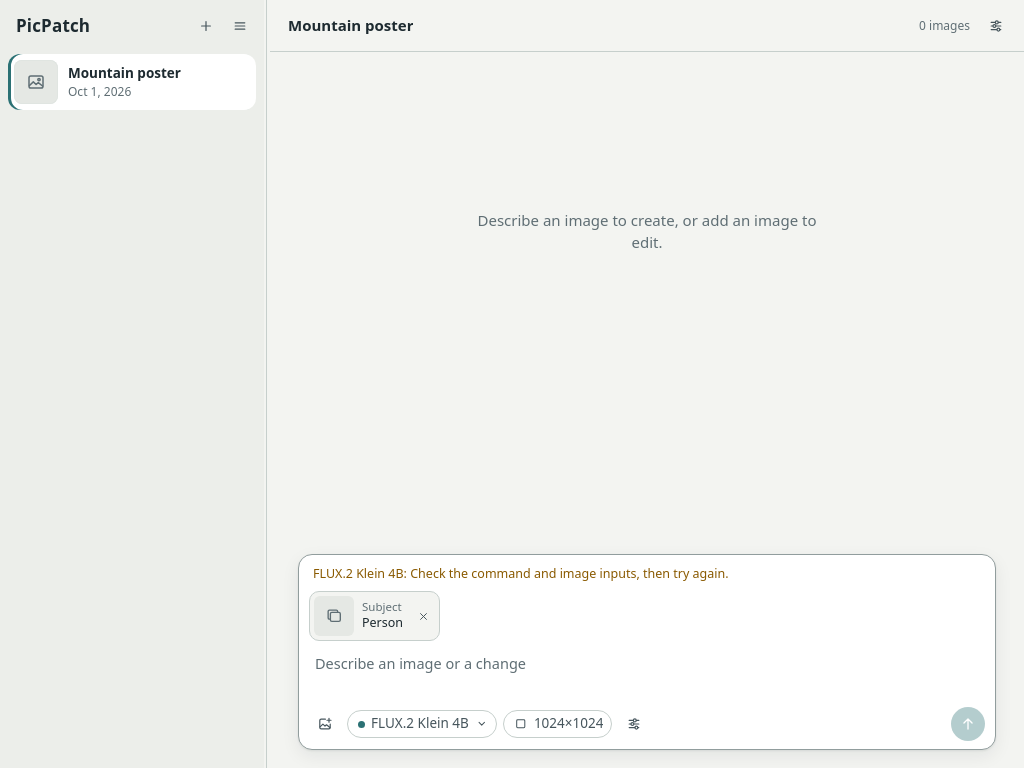
Test case: shows partial photo imports and failed reference saves inside the open dialog
The width and height of the screenshot is (1024, 768).
Expected: the text box named "Command" is shown, top-left (309, 649), bottom-right (985, 701)
Click the button "Subject Person" at (361, 616), box top-left (314, 596), bottom-right (407, 636)
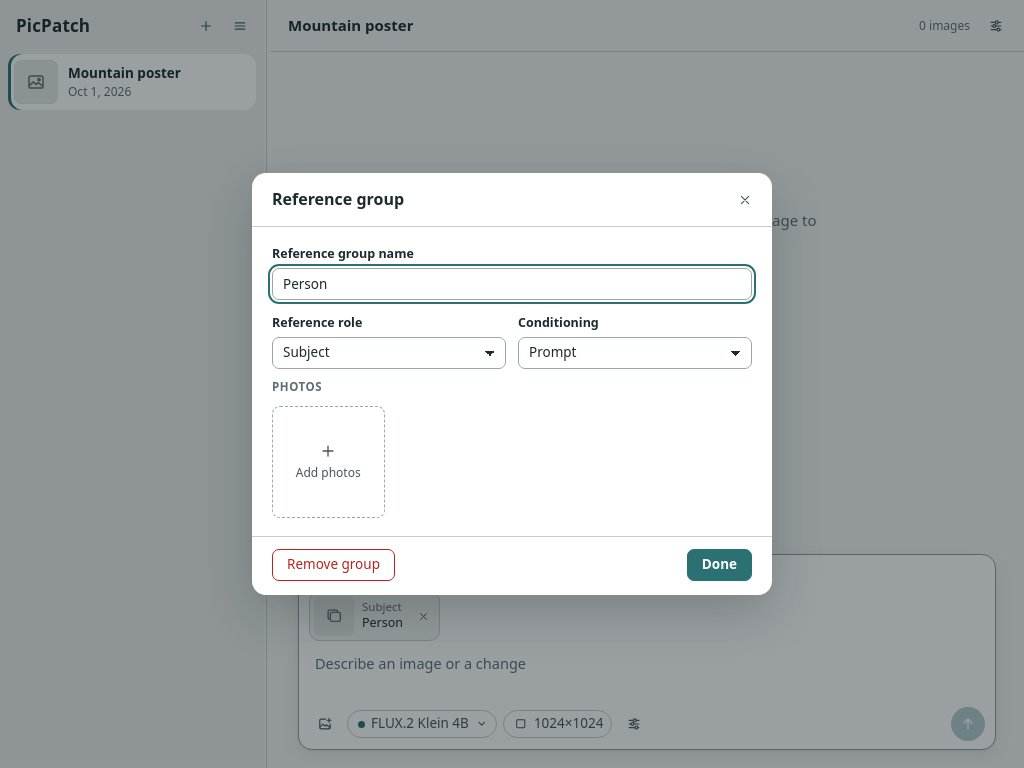
Click the button "Add photos" at (328, 462), box top-left (272, 406), bottom-right (384, 518)
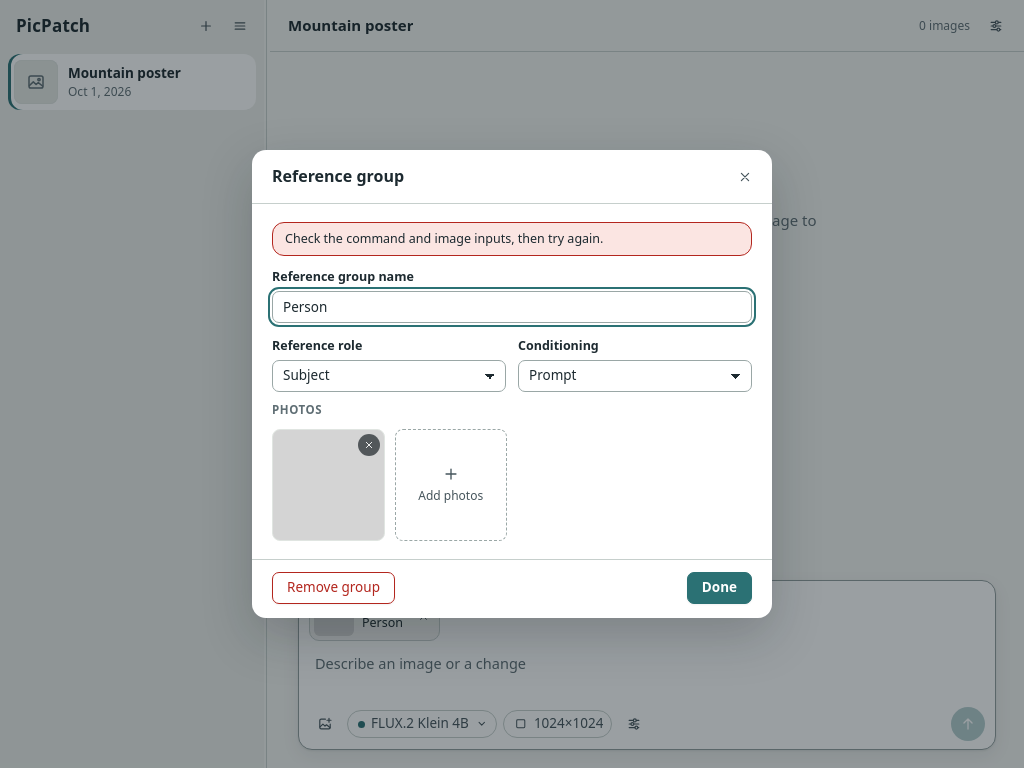
Expected: the message "Check the command and image inputs, then try again." is shown, top-left (272, 222), bottom-right (752, 256)
Replace the text in the field labelled "Reference group name" with "Edited" at (512, 307), box top-left (272, 291), bottom-right (752, 323)
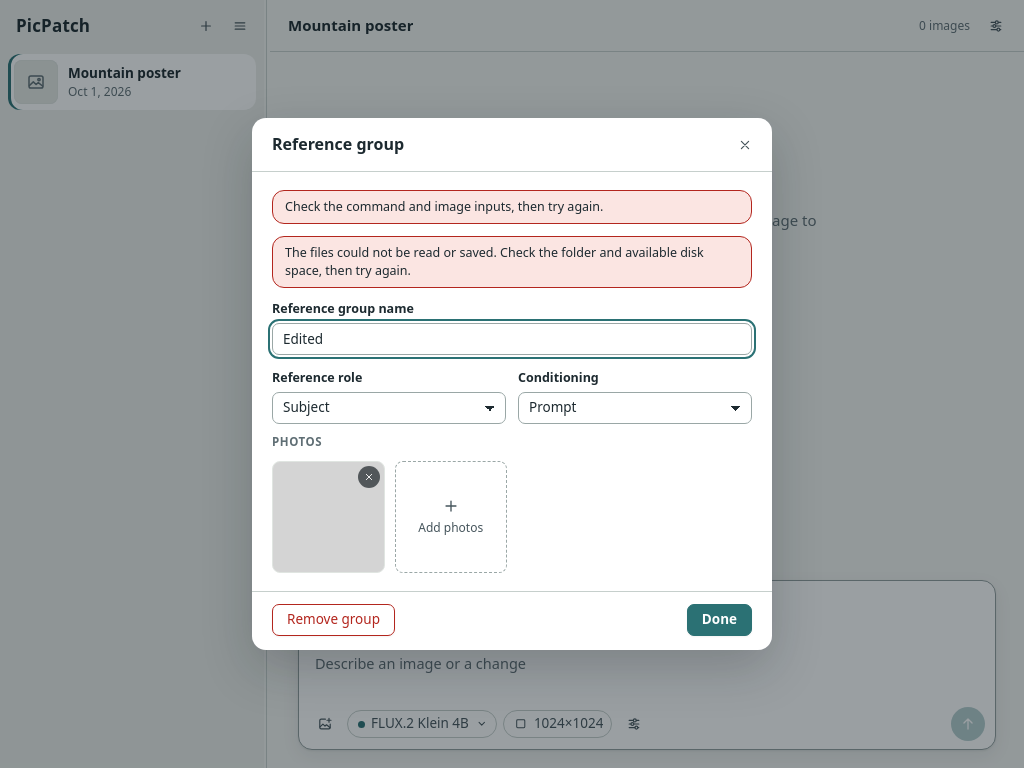
Now the number of messages is 2, box top-left (272, 190), bottom-right (752, 224); top-left (272, 236), bottom-right (752, 288)
